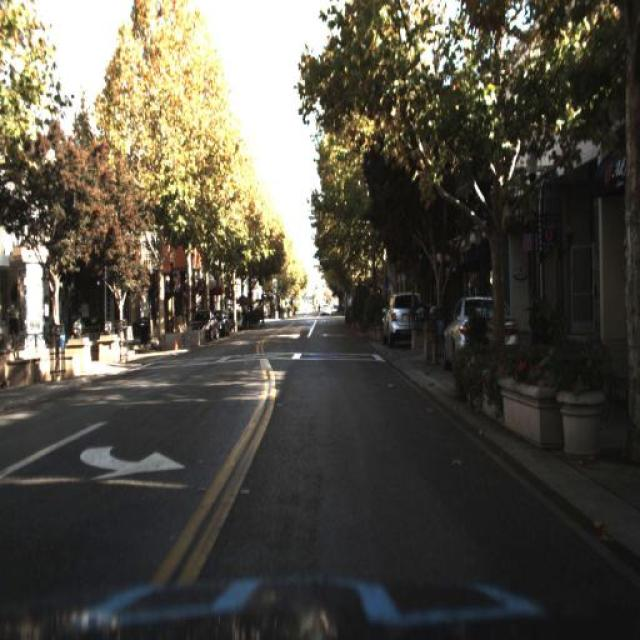car: (443, 294, 519, 367), (382, 287, 424, 349), (186, 306, 226, 346), (214, 305, 235, 340)
